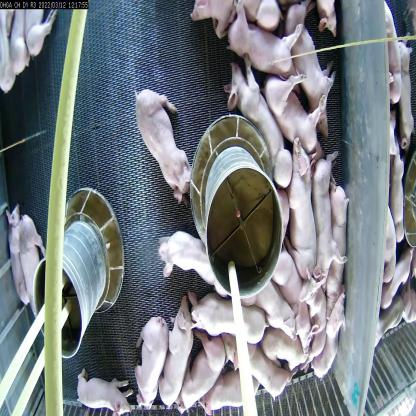Pig: (221, 58, 294, 188), (281, 3, 340, 140), (130, 79, 194, 203), (224, 0, 304, 87), (262, 63, 328, 164), (283, 134, 323, 281), (157, 225, 225, 298), (190, 284, 268, 347), (306, 148, 340, 281), (158, 290, 193, 408), (176, 326, 224, 412), (276, 246, 313, 357), (226, 334, 290, 398), (242, 271, 300, 339), (132, 310, 166, 409), (195, 364, 262, 414), (74, 362, 136, 415), (377, 3, 406, 108), (310, 293, 344, 382), (296, 261, 326, 359), (17, 209, 46, 309), (254, 316, 306, 368), (330, 176, 350, 304), (387, 138, 411, 240), (4, 4, 31, 78), (22, 5, 58, 59), (4, 204, 21, 294), (379, 197, 395, 283)
